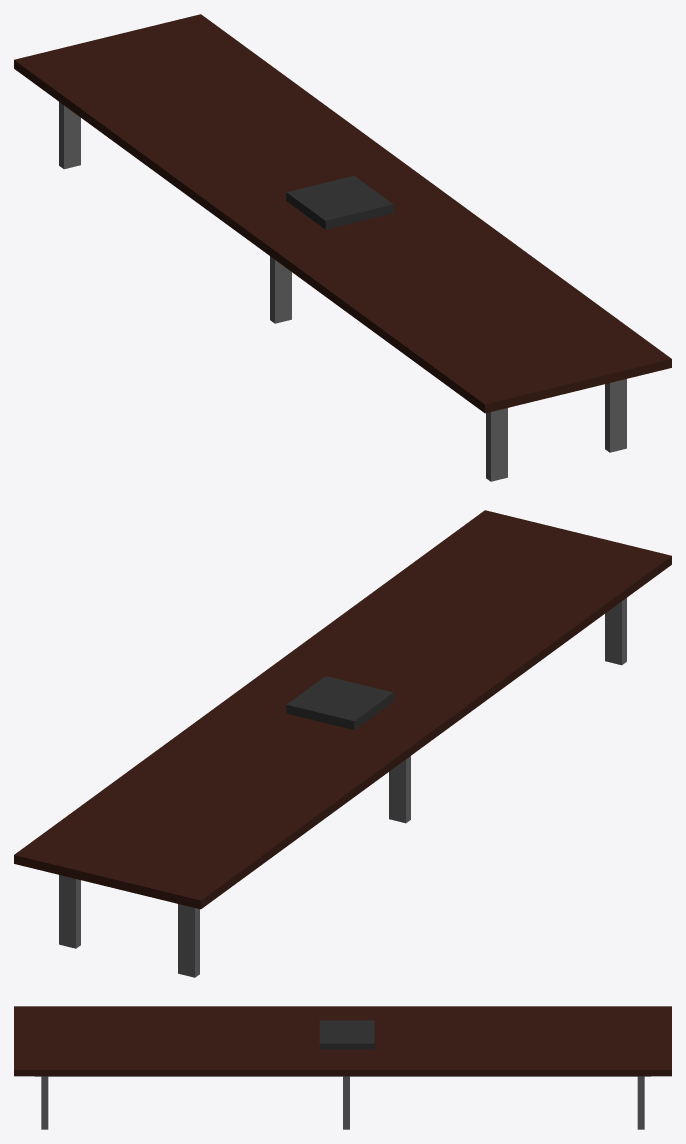
File: Office Table.fbx
3 renders of one model, top to bottom at view 1: azimuth 30°, elevation 25°; view 2: azimuth 150°, elevation 25°; view 3: azimuth 270°, elevation 25°, orthographic. The views are drawn at different scales.
Parts seen in each view (by area): view 1: cube; view 2: cube; view 3: cube.
Part boxes in pixels (<box>): cube: <box>14,14,671,481</box>; cube: <box>14,510,671,977</box>; cube: <box>14,1006,671,1129</box>.
Size of the model in its own units: 34.38 by 18.75 by 150.
Materials: 1 (1 with a texture image).
